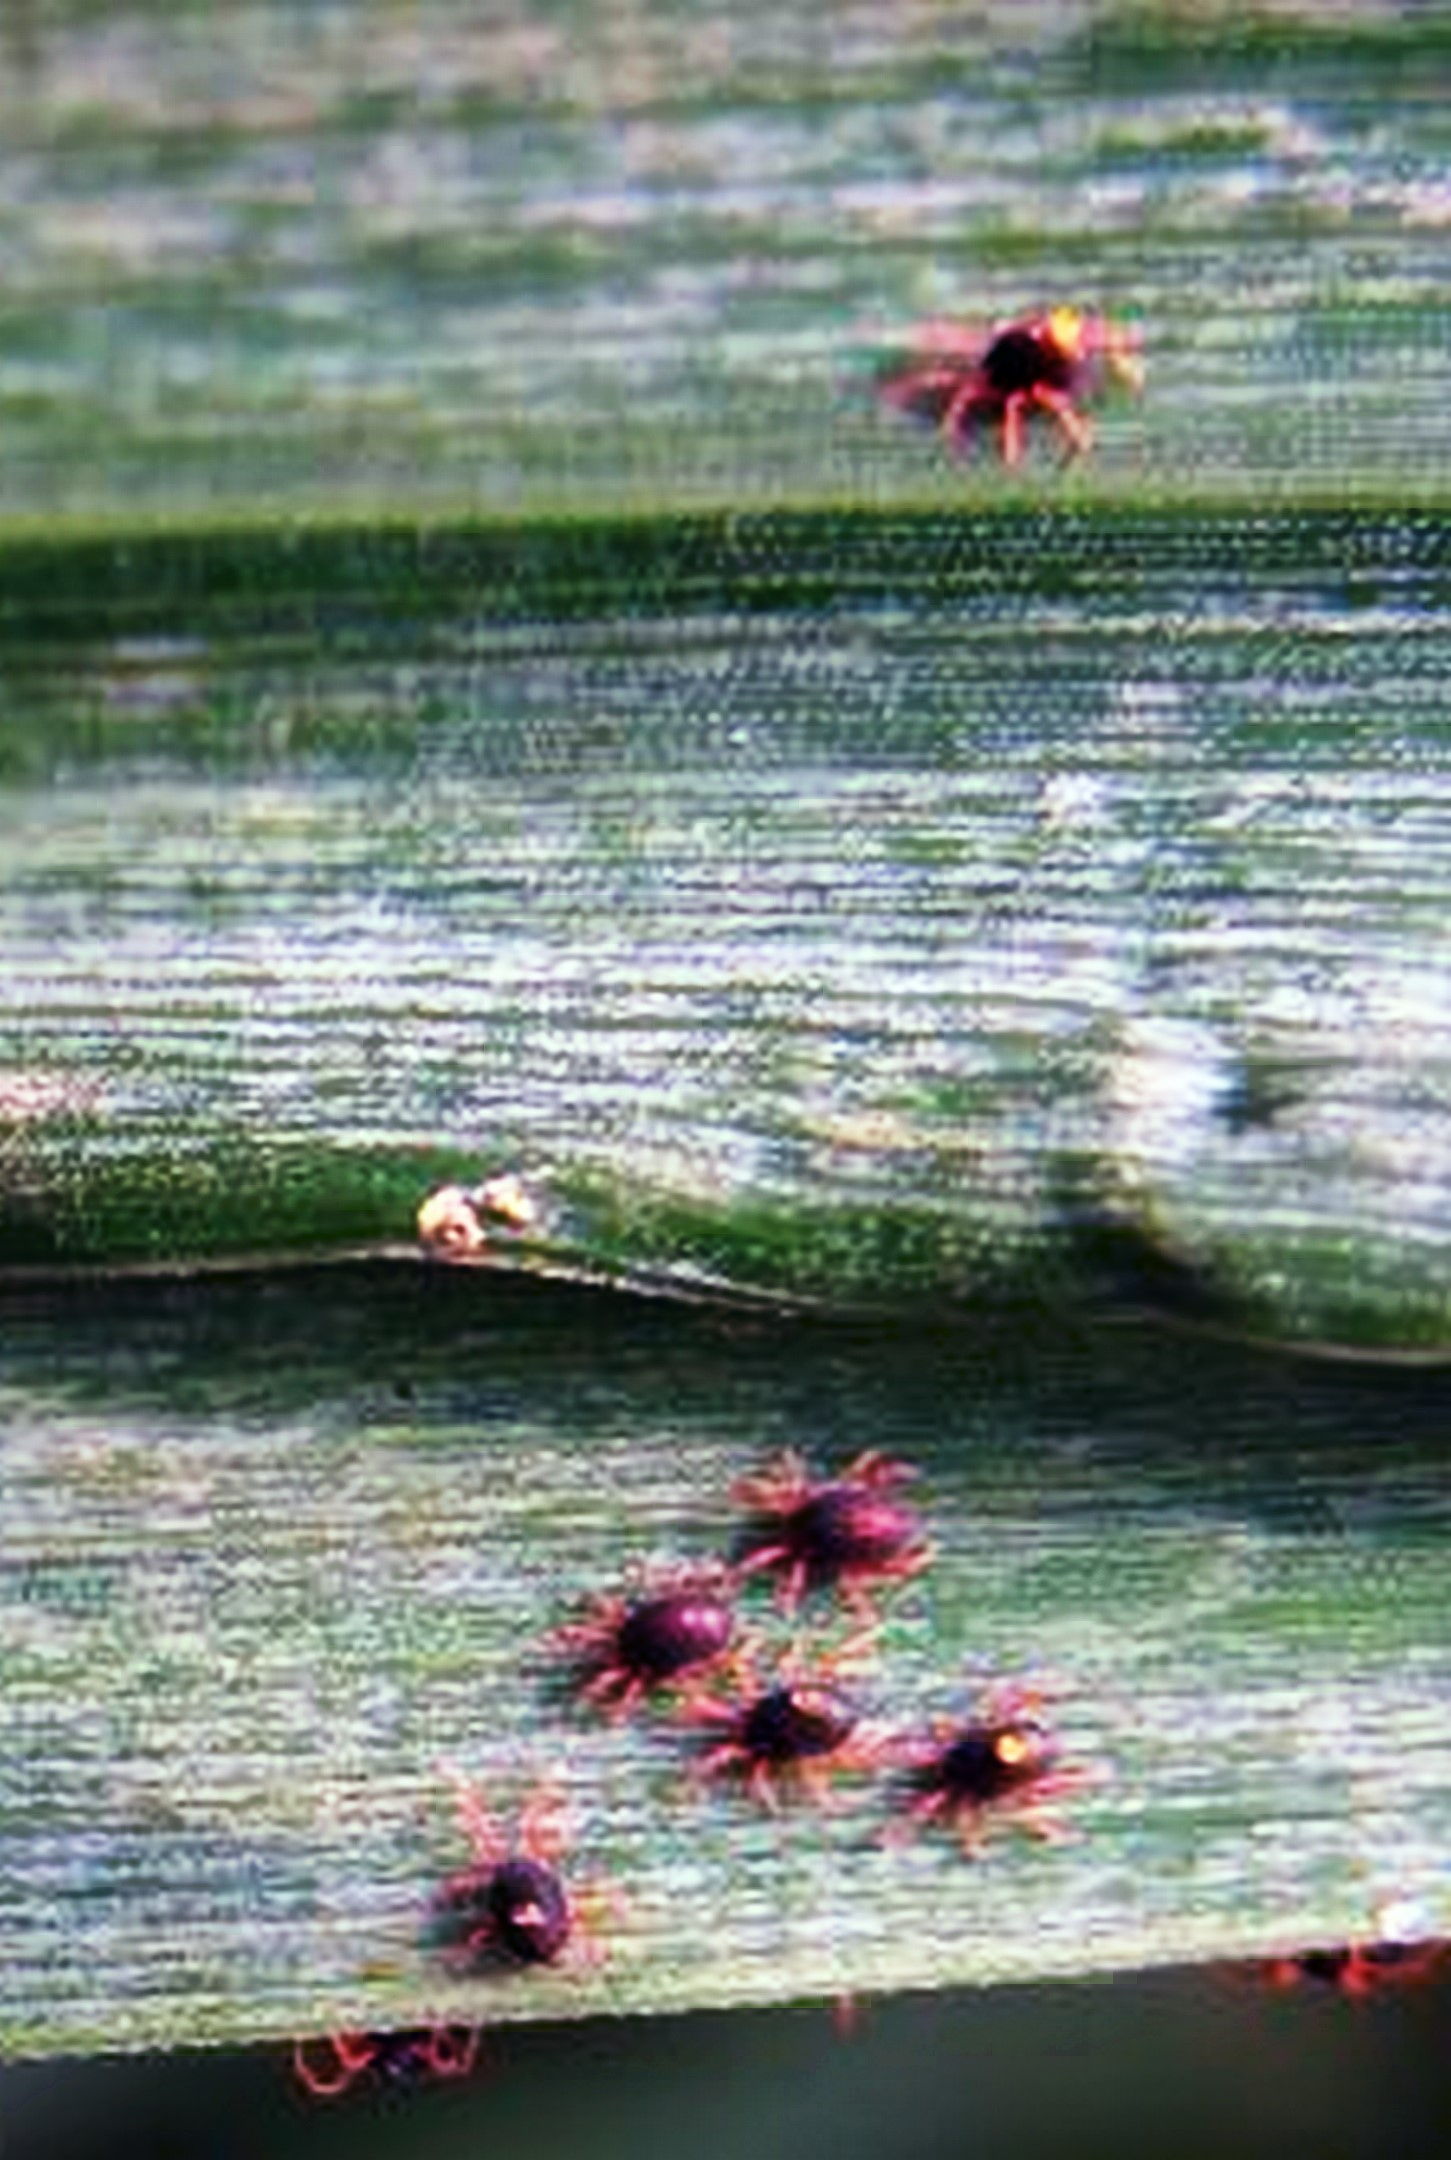Wheat Red Spider: (559, 1443, 1124, 1873)
